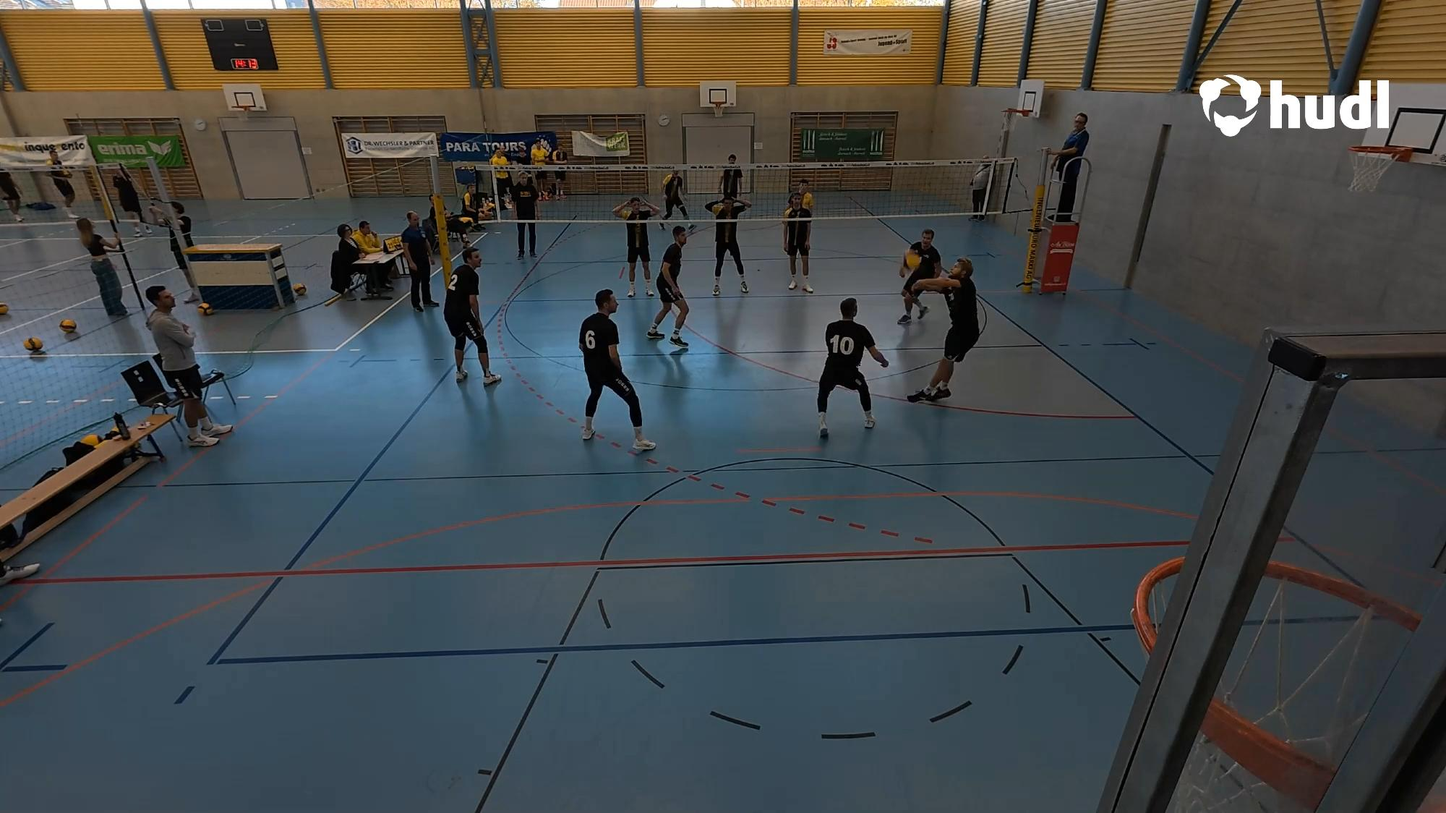ricezione: (905, 255, 982, 407)
